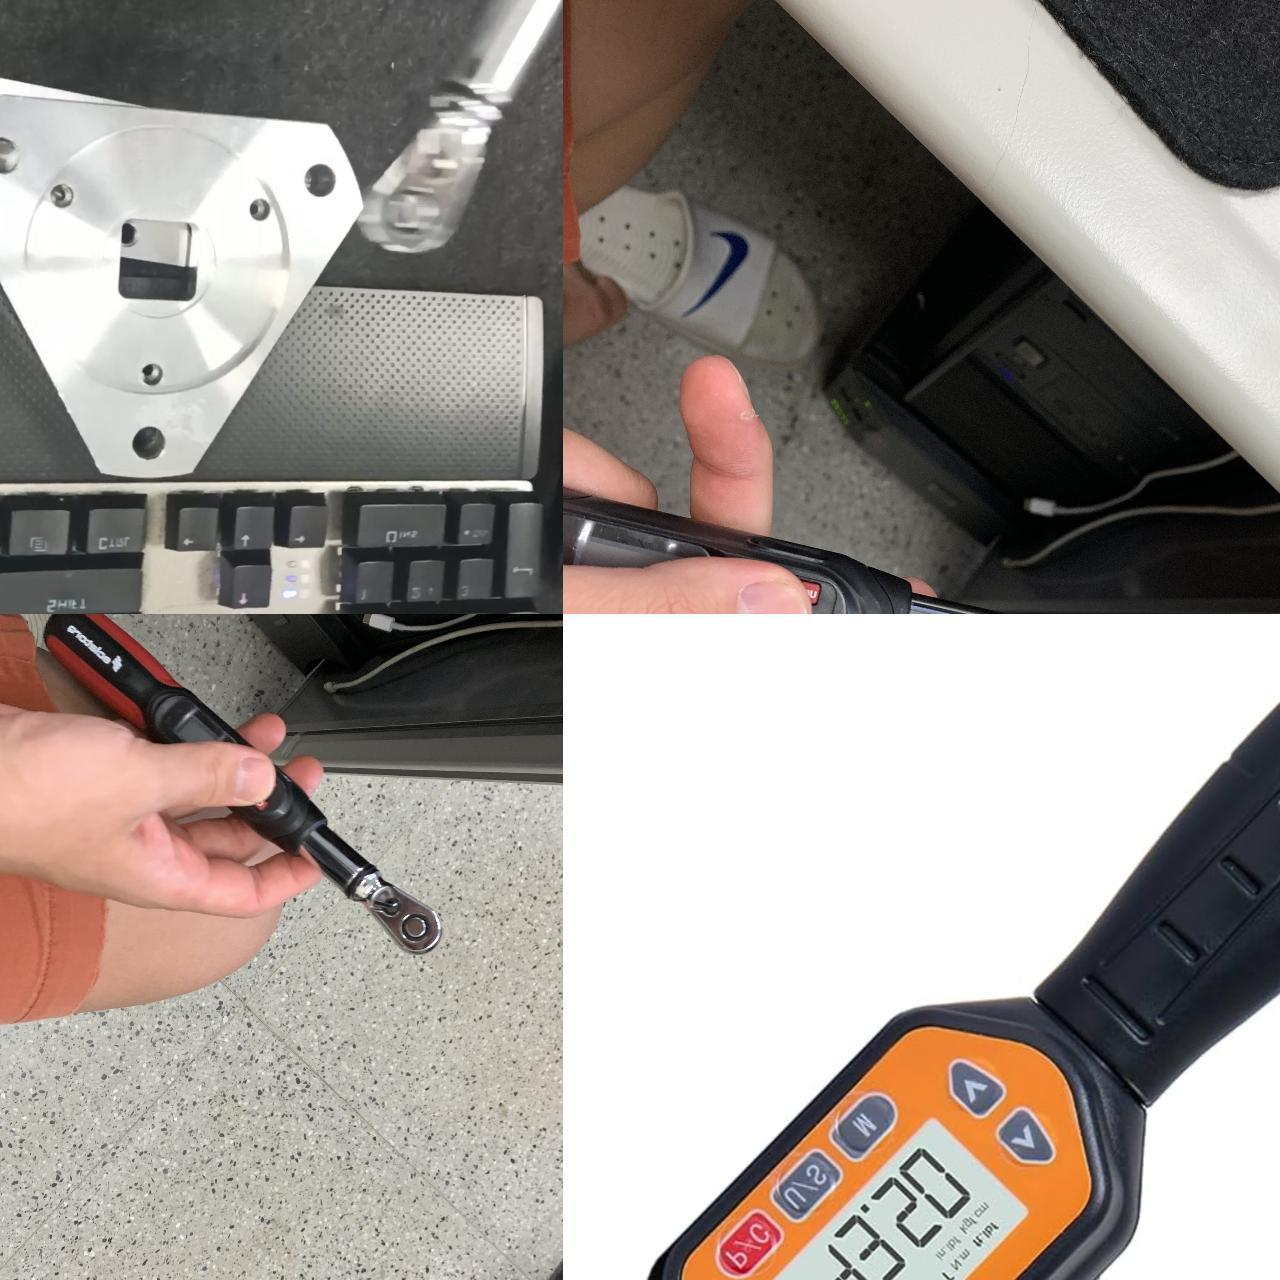Tool: (355, 863, 443, 959)
